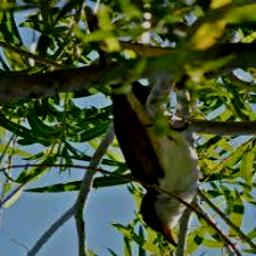Cuckoo: (83, 6, 199, 247)
